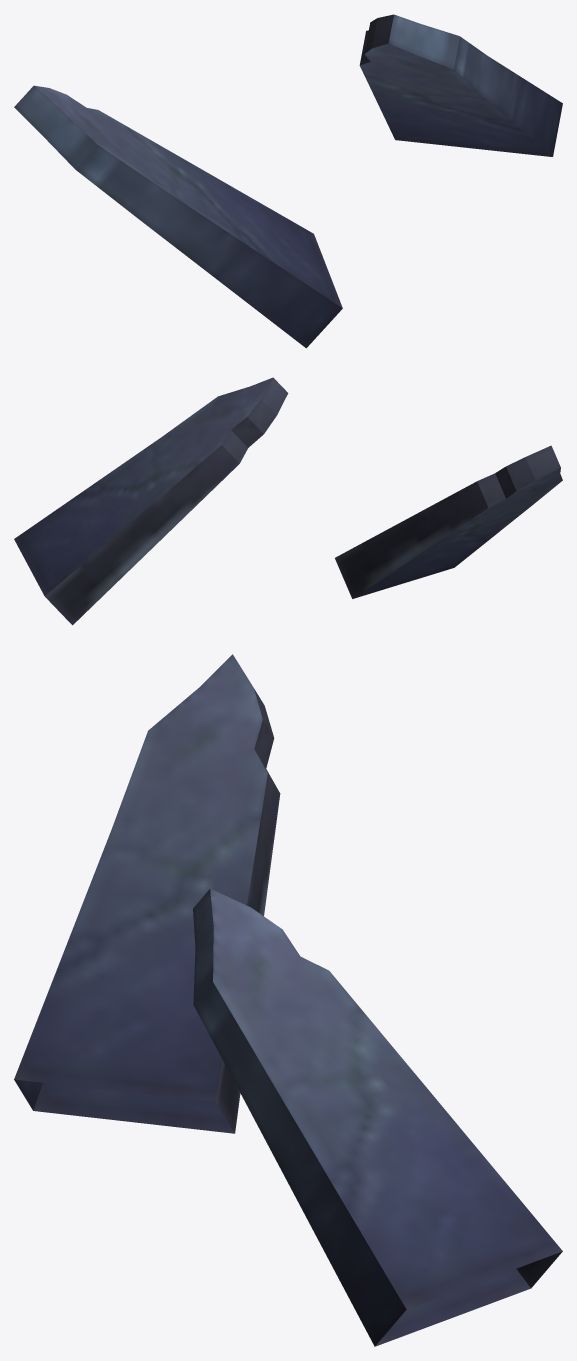
File: Area12_36.fbx
The picture shows the model from 3 angles, top to bottom: view 1: azimuth 30°, elevation 25°; view 2: azimuth 150°, elevation 25°; view 3: azimuth 270°, elevation 25°; orthographic projection. The views are drawn at different scales.
Parts seen in each view (by area): view 1: Area12_36; view 2: Area12_36; view 3: Area12_36.
Part boxes in pixels (x1,y1,x2,y2): Area12_36: [14, 14, 562, 348]; Area12_36: [14, 377, 562, 625]; Area12_36: [14, 654, 562, 1346].
Bounding box in the file's own units: 1440 × 573 × 859.
